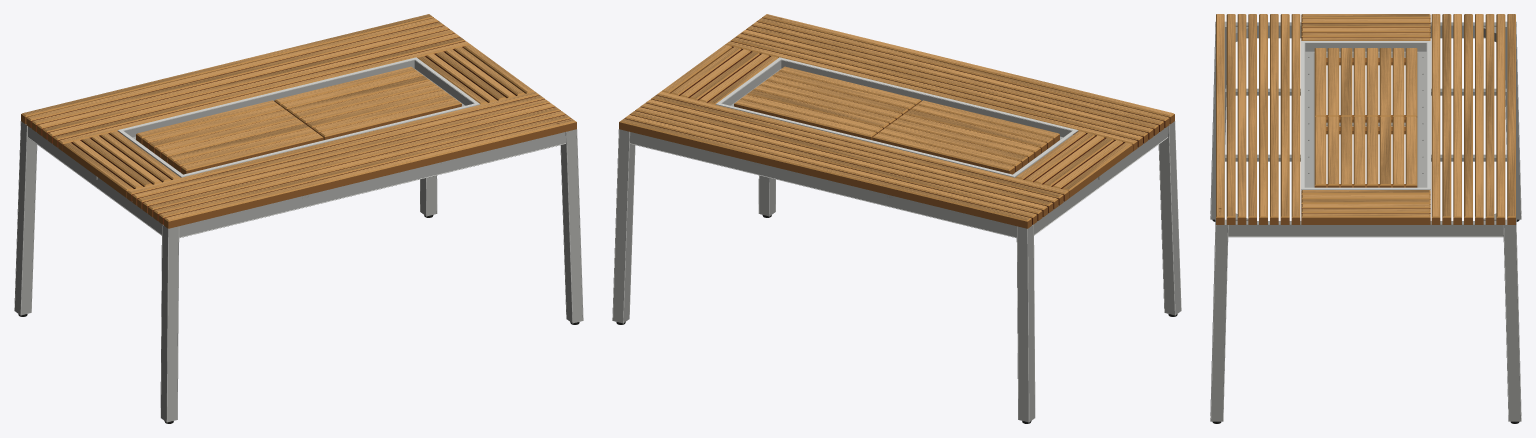
The model's file is snowpeak-garden-unit-table-wood-top-set.glb.
3 views of the same model, side by side, from view 1: azimuth 30°, elevation 25°; view 2: azimuth 150°, elevation 25°; view 3: azimuth 270°, elevation 25° (orthographic).
Parts seen in each view (by area): view 1: snowpeak-garden-unit-table-wood-top-set-wood, snowpeak-garden-unit-table-wood-top-set-edge, snowpeak-garden-unit-table-wood-top-set-woodtop-wood, snowpeak-garden-unit-table-wood-top-set-metal, snowpeak-garden-unit-table-wood-top-set-gap, snowpeak-garden-unit-table-wood-top-set-metal_hi, snowpeak-garden-unit-table-wood-top-set-metal_side, snowpeak-garden-unit-table-wood-top-set-woodtop-edge, snowpeak-garden-unit-table-wood-top-set-face, snowpeak-garden-unit-table-wood-top-set-rim, snowpeak-garden-unit-table-wood-top-set-woodtop-face; view 2: snowpeak-garden-unit-table-wood-top-set-wood, snowpeak-garden-unit-table-wood-top-set-edge, snowpeak-garden-unit-table-wood-top-set-woodtop-wood, snowpeak-garden-unit-table-wood-top-set-metal, snowpeak-garden-unit-table-wood-top-set-gap, snowpeak-garden-unit-table-wood-top-set-metal_hi, snowpeak-garden-unit-table-wood-top-set-metal_side, snowpeak-garden-unit-table-wood-top-set-woodtop-edge, snowpeak-garden-unit-table-wood-top-set-face, snowpeak-garden-unit-table-wood-top-set-rim, snowpeak-garden-unit-table-wood-top-set-woodtop-face; view 3: snowpeak-garden-unit-table-wood-top-set-wood, snowpeak-garden-unit-table-wood-top-set-edge, snowpeak-garden-unit-table-wood-top-set-woodtop-wood, snowpeak-garden-unit-table-wood-top-set-metal_side, snowpeak-garden-unit-table-wood-top-set-woodtop-edge, snowpeak-garden-unit-table-wood-top-set-metal_hi, snowpeak-garden-unit-table-wood-top-set-rim, snowpeak-garden-unit-table-wood-top-set-face, snowpeak-garden-unit-table-wood-top-set-gap, snowpeak-garden-unit-table-wood-top-set-woodtop-face, snowpeak-garden-unit-table-wood-top-set-seat-metal_side, snowpeak-garden-unit-table-wood-top-set-metal.
Boxes of the visible parts, x1=… form: snowpeak-garden-unit-table-wood-top-set-wood: x1=23, y1=14, x2=574, y2=219; snowpeak-garden-unit-table-wood-top-set-edge: x1=21, y1=16, x2=576, y2=221; snowpeak-garden-unit-table-wood-top-set-woodtop-wood: x1=138, y1=66, x2=459, y2=169; snowpeak-garden-unit-table-wood-top-set-metal: x1=21, y1=124, x2=582, y2=422; snowpeak-garden-unit-table-wood-top-set-gap: x1=30, y1=21, x2=571, y2=224; snowpeak-garden-unit-table-wood-top-set-metal_hi: x1=14, y1=57, x2=583, y2=422; snowpeak-garden-unit-table-wood-top-set-metal_side: x1=15, y1=121, x2=572, y2=421; snowpeak-garden-unit-table-wood-top-set-woodtop-edge: x1=136, y1=70, x2=461, y2=170; snowpeak-garden-unit-table-wood-top-set-face: x1=21, y1=17, x2=576, y2=228; snowpeak-garden-unit-table-wood-top-set-rim: x1=123, y1=60, x2=474, y2=177; snowpeak-garden-unit-table-wood-top-set-woodtop-face: x1=136, y1=71, x2=461, y2=174; snowpeak-garden-unit-table-wood-top-set-wood: x1=621, y1=14, x2=1172, y2=219; snowpeak-garden-unit-table-wood-top-set-edge: x1=619, y1=16, x2=1174, y2=221; snowpeak-garden-unit-table-wood-top-set-woodtop-wood: x1=736, y1=66, x2=1057, y2=169; snowpeak-garden-unit-table-wood-top-set-metal: x1=613, y1=124, x2=1174, y2=422; snowpeak-garden-unit-table-wood-top-set-gap: x1=624, y1=21, x2=1165, y2=224; snowpeak-garden-unit-table-wood-top-set-metal_hi: x1=612, y1=57, x2=1181, y2=422; snowpeak-garden-unit-table-wood-top-set-metal_side: x1=623, y1=121, x2=1180, y2=421; snowpeak-garden-unit-table-wood-top-set-woodtop-edge: x1=734, y1=70, x2=1059, y2=170; snowpeak-garden-unit-table-wood-top-set-face: x1=619, y1=17, x2=1174, y2=228; snowpeak-garden-unit-table-wood-top-set-rim: x1=721, y1=60, x2=1072, y2=177; snowpeak-garden-unit-table-wood-top-set-woodtop-face: x1=734, y1=71, x2=1059, y2=174; snowpeak-garden-unit-table-wood-top-set-wood: x1=1217, y1=14, x2=1514, y2=216; snowpeak-garden-unit-table-wood-top-set-edge: x1=1216, y1=14, x2=1515, y2=217; snowpeak-garden-unit-table-wood-top-set-woodtop-wood: x1=1315, y1=48, x2=1416, y2=183; snowpeak-garden-unit-table-wood-top-set-metal_side: x1=1211, y1=22, x2=1520, y2=421; snowpeak-garden-unit-table-wood-top-set-woodtop-edge: x1=1314, y1=48, x2=1417, y2=185; snowpeak-garden-unit-table-wood-top-set-metal_hi: x1=1210, y1=21, x2=1521, y2=421; snowpeak-garden-unit-table-wood-top-set-rim: x1=1304, y1=42, x2=1427, y2=187; snowpeak-garden-unit-table-wood-top-set-face: x1=1216, y1=18, x2=1515, y2=224; snowpeak-garden-unit-table-wood-top-set-gap: x1=1301, y1=23, x2=1430, y2=213; snowpeak-garden-unit-table-wood-top-set-woodtop-face: x1=1314, y1=57, x2=1417, y2=187; snowpeak-garden-unit-table-wood-top-set-seat-metal_side: x1=1313, y1=54, x2=1418, y2=187; snowpeak-garden-unit-table-wood-top-set-metal: x1=1215, y1=21, x2=1516, y2=224.
Size of the model in its own units: 1.51 by 0.7002 by 0.9582.
11 materials, 1 textured.
